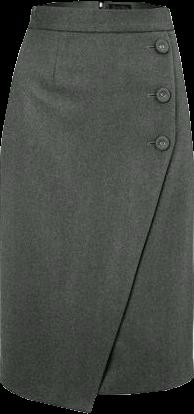Hemline: (0, 30, 178, 413), (97, 377, 193, 396)
Waistline: (33, 5, 163, 14), (28, 24, 174, 32)
